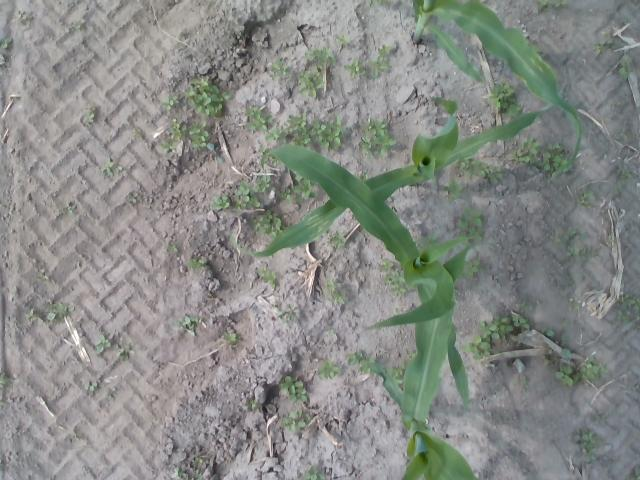Maize: (262, 146, 500, 407), (230, 82, 567, 258), (368, 240, 501, 480), (411, 0, 582, 177)
Weeds: (260, 110, 350, 152), (462, 316, 531, 360), (542, 348, 611, 390), (508, 132, 573, 176), (212, 171, 278, 210), (185, 72, 236, 118), (297, 46, 336, 99), (360, 118, 400, 156), (459, 159, 504, 187), (491, 79, 524, 116), (278, 176, 320, 203), (273, 408, 313, 434), (279, 374, 311, 404), (242, 104, 276, 132), (572, 426, 597, 464), (250, 209, 282, 238), (44, 297, 76, 326), (158, 118, 186, 151), (345, 346, 375, 374), (188, 118, 214, 150), (459, 209, 484, 242), (616, 294, 640, 328), (368, 44, 392, 77), (324, 279, 349, 310), (382, 268, 406, 298), (100, 154, 124, 182), (316, 358, 344, 382), (614, 166, 634, 198), (274, 301, 298, 327), (254, 265, 278, 290), (536, 0, 572, 15), (566, 246, 602, 261), (270, 59, 293, 82), (170, 314, 203, 330), (578, 188, 598, 214), (115, 336, 135, 362), (343, 60, 368, 80), (296, 464, 326, 480), (618, 54, 635, 82), (564, 226, 591, 243), (444, 177, 464, 199), (566, 272, 588, 291), (329, 228, 347, 251), (94, 333, 112, 356), (160, 94, 182, 112), (466, 256, 485, 276), (594, 38, 612, 58), (80, 106, 98, 126), (25, 306, 45, 324), (208, 142, 225, 162), (185, 256, 208, 270), (126, 188, 142, 206), (592, 406, 606, 426), (389, 362, 406, 378), (221, 332, 240, 346), (336, 32, 352, 48), (520, 375, 532, 396), (56, 201, 74, 215), (514, 301, 536, 312), (368, 0, 388, 12), (378, 260, 396, 273), (83, 380, 101, 393), (168, 468, 187, 480), (0, 36, 16, 50), (625, 466, 640, 480), (36, 268, 51, 282), (568, 298, 582, 312), (0, 372, 11, 389), (245, 398, 260, 410), (0, 52, 10, 70), (192, 456, 206, 468), (542, 328, 558, 338), (132, 128, 145, 140), (166, 243, 179, 254), (270, 156, 281, 168), (74, 19, 86, 30), (18, 10, 30, 20), (327, 327, 338, 337), (106, 387, 115, 399), (190, 472, 203, 480), (406, 348, 415, 359), (352, 174, 368, 180), (562, 320, 572, 329), (0, 396, 6, 408), (620, 18, 628, 26), (554, 236, 562, 243), (238, 32, 244, 40), (0, 459, 4, 471)
